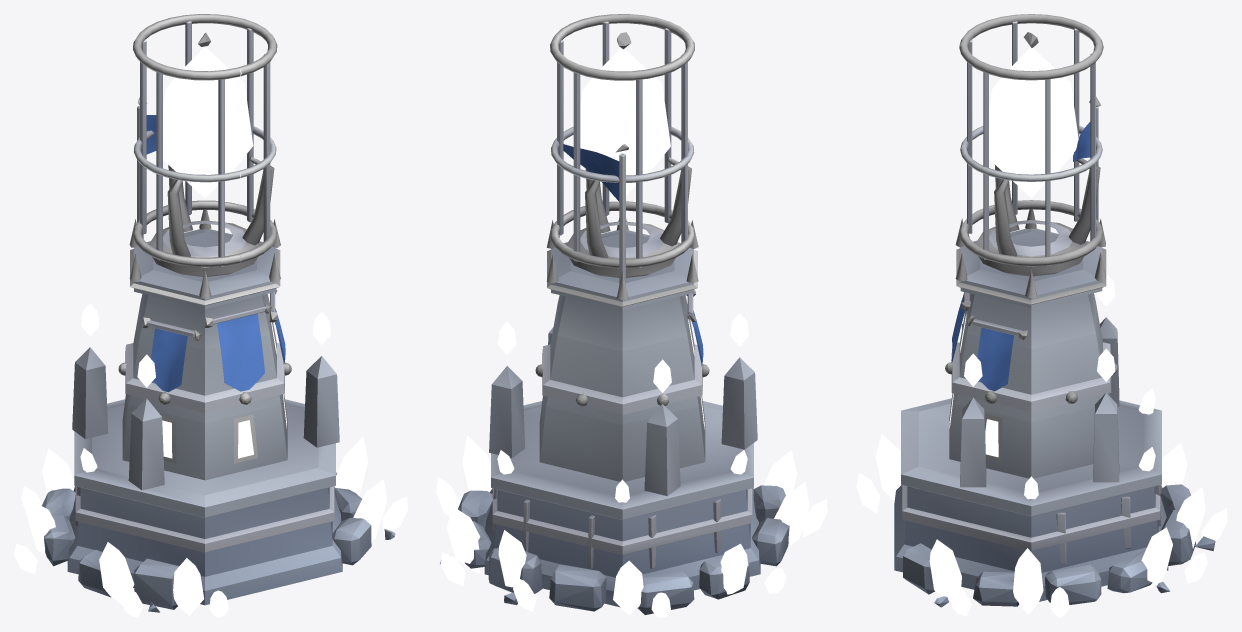
The model's file is frost_1_8.glb.
3 renders of one model, left to right at view 1: azimuth 30°, elevation 25°; view 2: azimuth 150°, elevation 25°; view 3: azimuth 270°, elevation 25°, orthographic.
Visible parts, largest first — view 1: Tower, Turret; view 2: Tower, Turret; view 3: Tower, Turret.
Boxes of the visible parts, left/top/right/bottom form: Tower: left=14, top=97, right=407, bottom=617; Turret: left=133, top=14, right=277, bottom=276; Tower: left=436, top=144, right=827, bottom=617; Turret: left=550, top=14, right=694, bottom=277; Tower: left=856, top=96, right=1227, bottom=617; Turret: left=959, top=14, right=1103, bottom=276.
Bounding box in the file's own units: 4.27 × 6.17 × 3.99.
